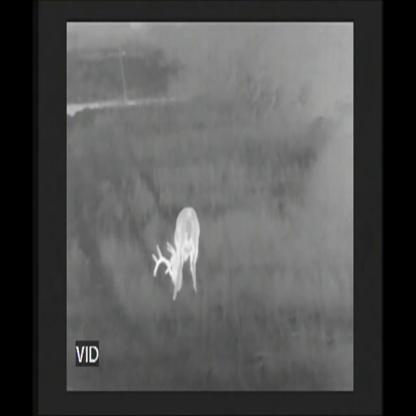rehkitze: (152, 205, 201, 309)
